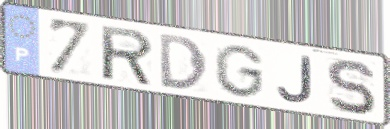7: (47, 15, 94, 76)
D: (157, 31, 210, 92)
G: (212, 43, 266, 100)
J: (275, 53, 316, 105)
R: (98, 24, 156, 89)
S: (323, 57, 378, 116)
